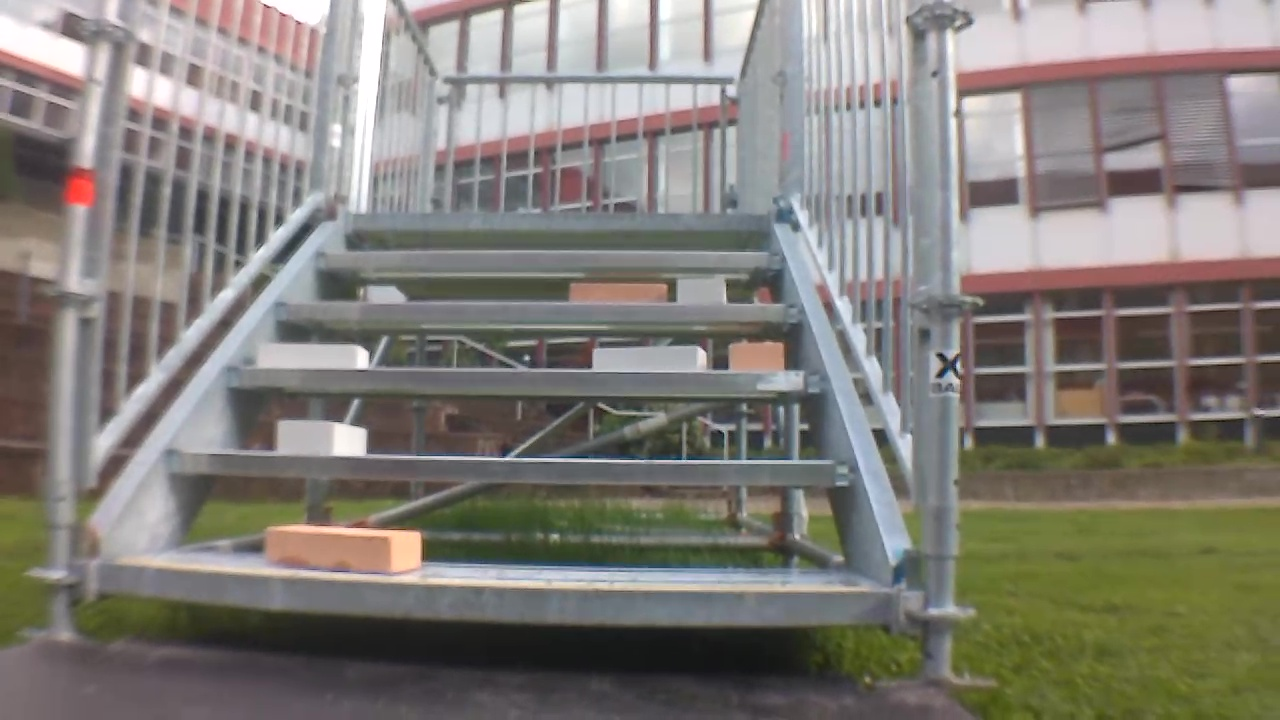brick: (265, 525, 421, 576), (277, 421, 367, 457), (594, 346, 705, 371), (257, 344, 366, 368), (570, 284, 665, 303), (730, 343, 782, 370), (677, 278, 725, 304)
edge: (101, 563, 892, 622), (169, 450, 851, 485), (230, 366, 819, 394), (281, 301, 801, 323), (348, 210, 770, 231), (320, 249, 780, 268)
stairs: (39, 5, 988, 684)
steps: (91, 198, 898, 634)
